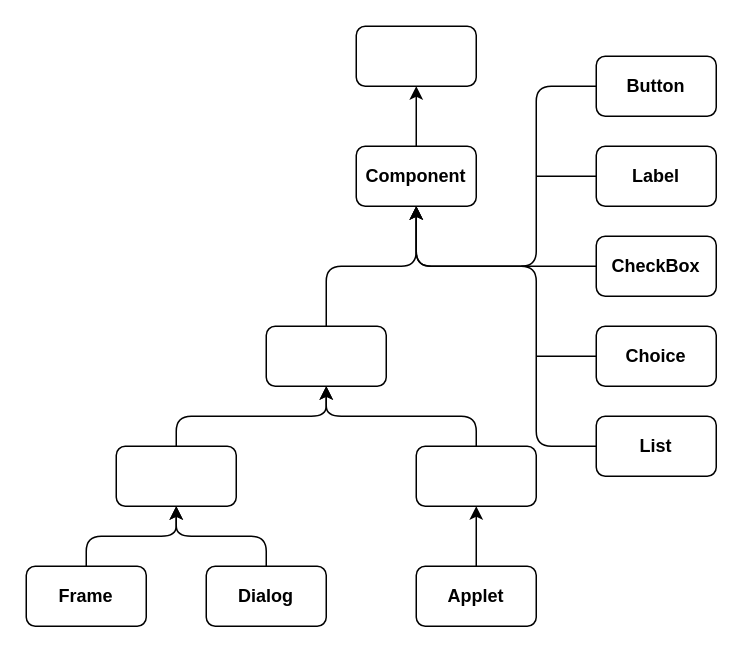
The diagram is 743 pixels wide and 653 high, and some of its shapes have lost their labels. The shapes that lost their labels are listed below. From the top down, each one's centre as x and y in pixels, then its label:
At point (415, 55): "Object".
At point (325, 355): "Container".
At point (175, 475): "Window".
At point (475, 475): "Panel".
